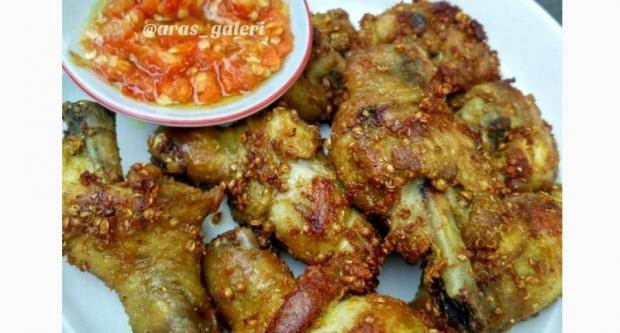Ayam: (316, 16, 516, 288), (132, 122, 394, 312), (52, 100, 228, 333)
